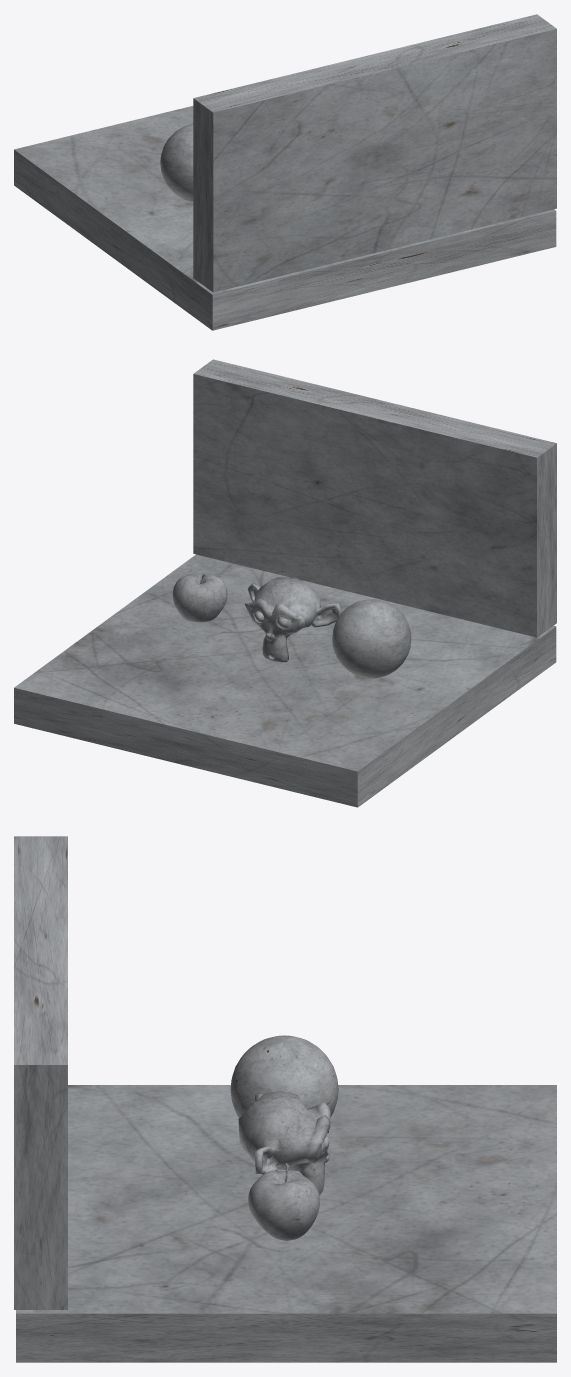
Rendered from SceneFred.obj.
The picture shows the model from 3 angles, top to bottom: view 1: azimuth 30°, elevation 25°; view 2: azimuth 150°, elevation 25°; view 3: azimuth 270°, elevation 25°; orthographic projection. The views are drawn at different scales.
Parts seen in each view (by area): view 1: Wall, Ground, Sphere; view 2: Wall, Ground, Sphere, Suzanne, Apple; view 3: Ground, Wall, Suzanne, Sphere, Apple.
Part boxes in pixels (<box>): Wall: <box>193,14,556,292</box>; Ground: <box>14,106,556,330</box>; Sphere: <box>160,124,193,201</box>; Wall: <box>193,359,556,637</box>; Ground: <box>14,554,556,807</box>; Sphere: <box>332,599,411,678</box>; Suzanne: <box>244,577,342,662</box>; Apple: <box>172,572,227,622</box>; Ground: <box>16,1085,556,1362</box>; Wall: <box>14,836,67,1309</box>; Suzanne: <box>238,1090,330,1194</box>; Sphere: <box>230,1035,338,1117</box>; Apple: <box>248,1163,319,1240</box>.
Size of the model in its own units: 20 by 12.15 by 20.07.
